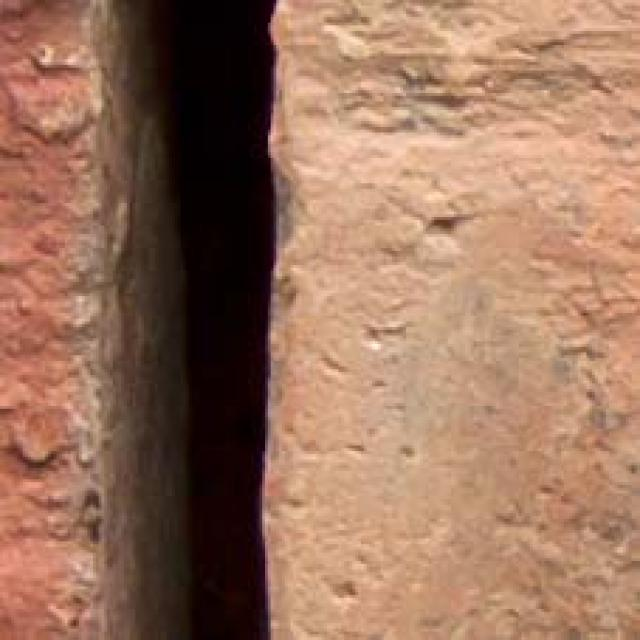Crack: (15, 0, 354, 640)
